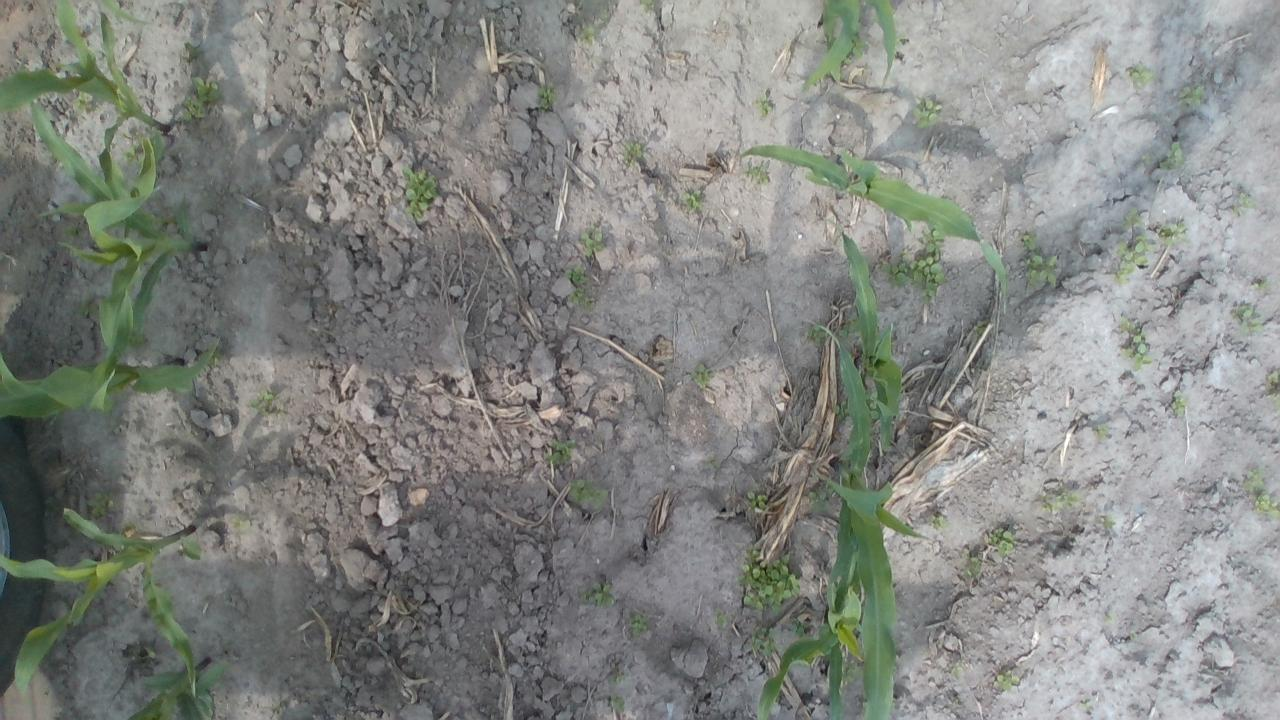Maize: (29, 97, 208, 411), (806, 317, 930, 720), (738, 144, 1008, 304), (0, 507, 199, 695), (0, 0, 173, 206), (756, 504, 866, 720), (0, 337, 222, 420), (840, 230, 903, 449), (801, 0, 897, 91), (118, 658, 225, 720), (90, 0, 150, 28)
Weeds: (736, 543, 800, 615), (880, 249, 944, 303), (178, 76, 222, 124), (402, 166, 438, 221), (1115, 235, 1149, 285), (176, 683, 215, 720), (566, 478, 608, 512), (1025, 252, 1059, 288), (1123, 331, 1154, 370), (564, 265, 593, 305), (581, 579, 616, 610), (578, 224, 610, 257), (913, 95, 943, 130), (749, 625, 780, 657), (544, 437, 578, 466), (1238, 304, 1266, 336), (808, 478, 834, 512), (1039, 491, 1080, 512), (986, 526, 1016, 554), (1127, 62, 1158, 88), (249, 388, 276, 417), (1158, 221, 1188, 246), (88, 490, 114, 518), (1158, 142, 1184, 170), (1255, 491, 1280, 520), (922, 222, 944, 252), (538, 83, 558, 113), (1242, 466, 1264, 492), (678, 190, 704, 212), (1180, 85, 1205, 107), (864, 388, 881, 420), (76, 292, 98, 316), (747, 163, 770, 185), (993, 671, 1017, 691), (844, 660, 864, 684), (752, 94, 774, 115), (790, 618, 811, 640), (1168, 394, 1188, 417), (805, 324, 828, 344), (628, 613, 648, 635), (746, 489, 768, 509), (964, 553, 981, 578), (623, 142, 643, 163), (692, 363, 712, 384), (712, 606, 732, 627), (838, 324, 859, 344), (74, 89, 92, 112), (229, 514, 254, 530), (831, 398, 850, 419), (1124, 207, 1144, 226), (608, 692, 626, 713), (123, 144, 139, 166), (62, 225, 85, 240), (184, 39, 202, 58), (148, 212, 166, 231), (61, 342, 80, 360), (1238, 192, 1256, 210), (578, 25, 595, 44), (1118, 314, 1135, 332), (103, 417, 121, 434), (1022, 232, 1038, 249), (210, 349, 226, 365), (850, 38, 864, 56), (931, 514, 946, 530), (1101, 515, 1116, 530), (702, 461, 722, 472), (1266, 368, 1280, 383), (973, 319, 986, 335), (607, 672, 624, 684), (144, 641, 156, 657), (895, 32, 906, 48), (1271, 393, 1280, 412), (1094, 424, 1106, 438), (1254, 280, 1270, 289), (840, 55, 852, 65), (640, 0, 657, 7), (952, 662, 960, 672), (1106, 612, 1112, 622)
